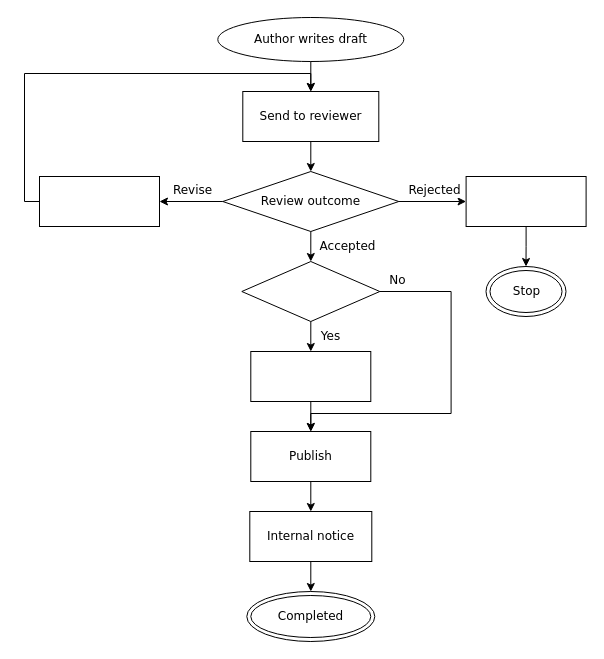
This 604x659 diagram has some shape labels left out. The box of each missing label's shape, as (x1, y1, x2, y2) in pixels:
Archive: (465, 176, 586, 226)
Author revises: (38, 176, 160, 226)
Legal review: (250, 350, 371, 402)
Needs legal?: (241, 260, 380, 322)
